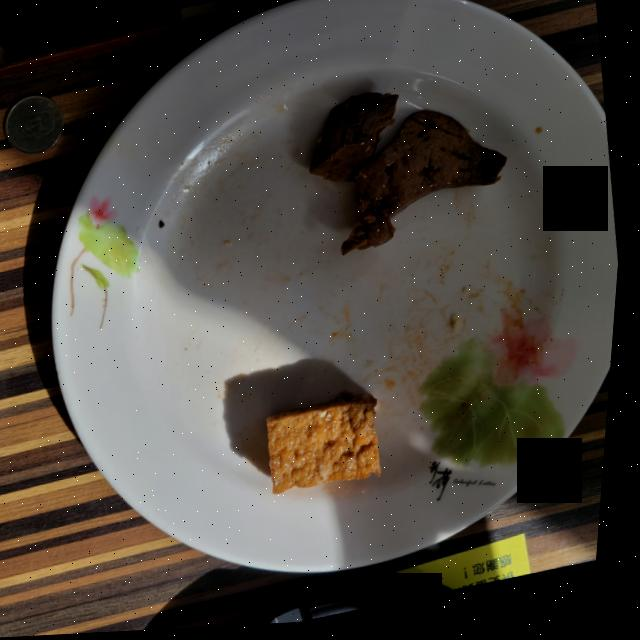coin: (7, 96, 66, 155)
egg tofu: (273, 394, 389, 497)
pig liver: (312, 96, 510, 258)
